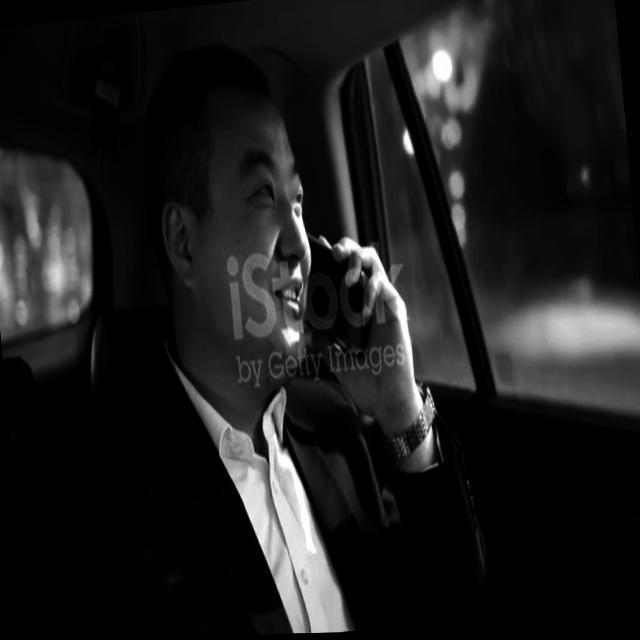PhoneCall: (300, 228, 372, 369)
